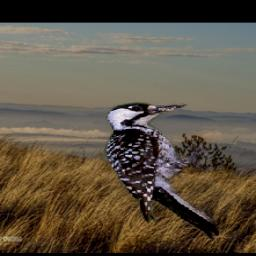Woodpecker: (103, 102, 218, 239)
